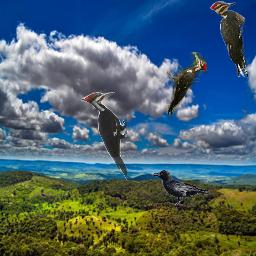Crow: (152, 170, 211, 206)
Woodpecker: (81, 92, 127, 181), (210, 1, 249, 79), (164, 52, 207, 116)
